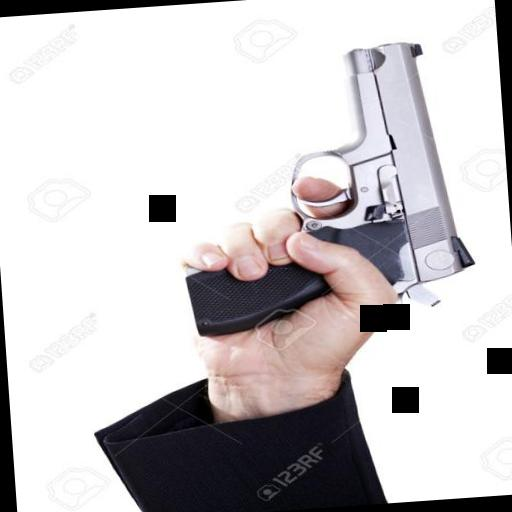Handgun: (164, 32, 478, 340)
